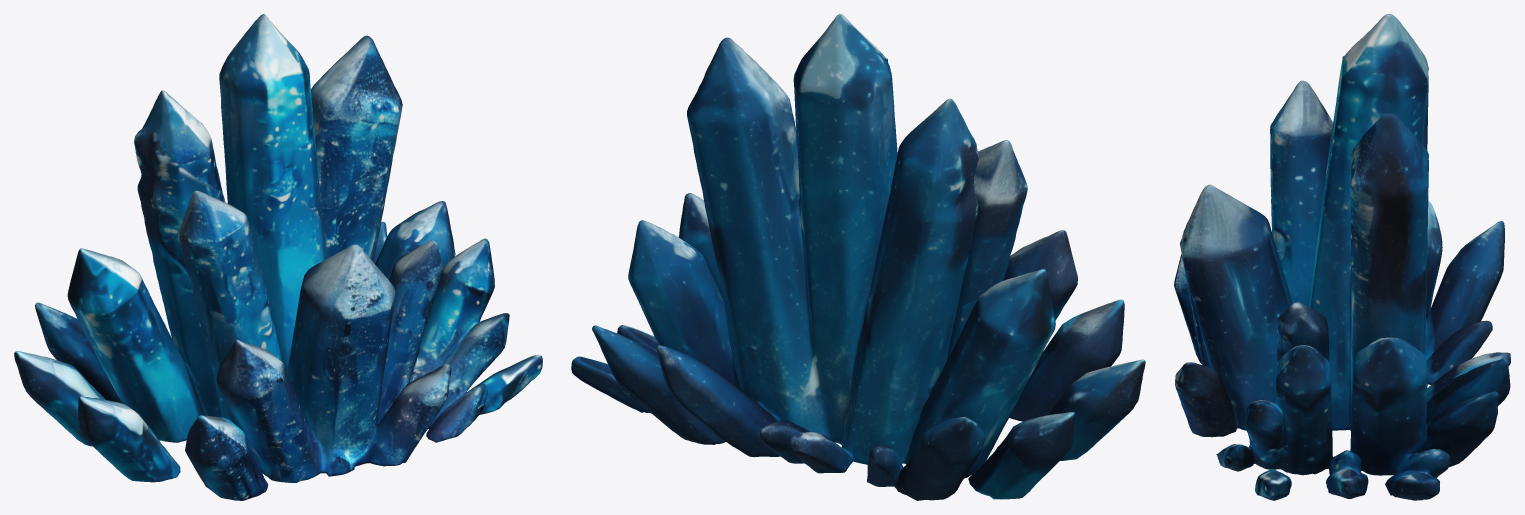
File: herunterladen--342--preview-1760647151694_png.glb
3 views of the same model, side by side, from view 1: azimuth 30°, elevation 25°; view 2: azimuth 150°, elevation 25°; view 3: azimuth 270°, elevation 25° (orthographic). The views are drawn at different scales.
Parts seen in each view (by area): view 1: model; view 2: model; view 3: model.
Part boxes in pixels (left/top/right/bottom): model: left=14, top=14, right=542, bottom=500; model: left=571, top=14, right=1145, bottom=500; model: left=1174, top=14, right=1510, bottom=500.
Bounding box in the file's own units: 1.78 × 1.46 × 1.12.
1 material, 1 textured.
